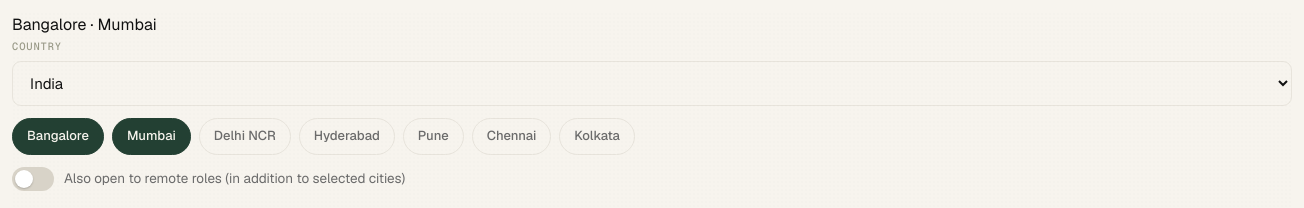
Test: LocationPreferenceSelector › deselecting a city removes it from the joined value
Click the button "Bangalore".
click(58, 137)  # box [12, 118, 104, 155]
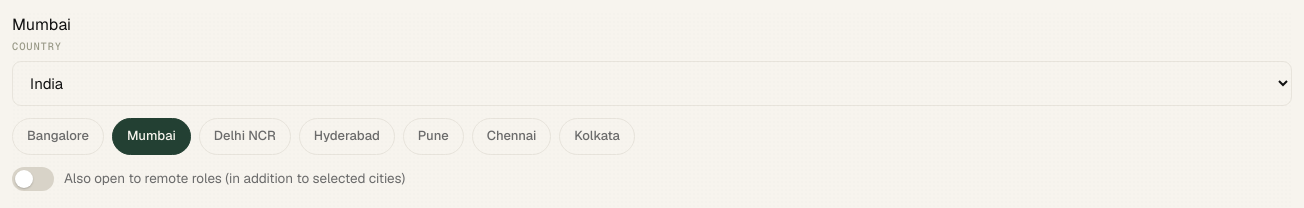
Now the text with test id "value" reads "Mumbai", box [12, 14, 71, 35]
